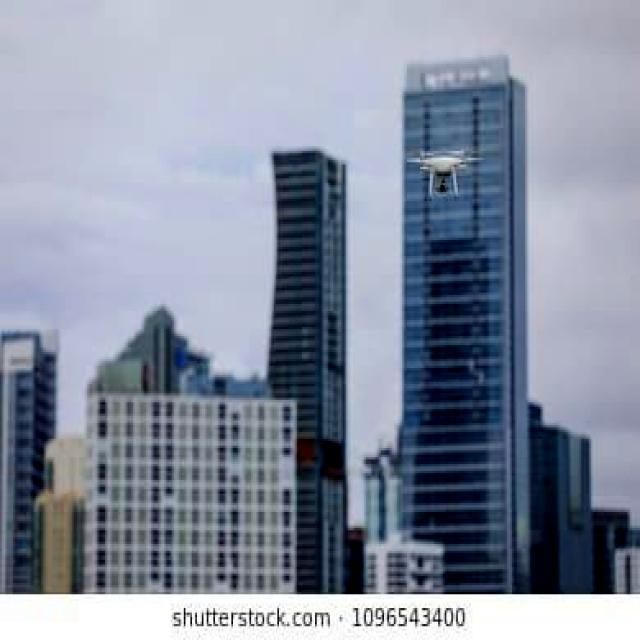drone: (408, 140, 478, 201)
